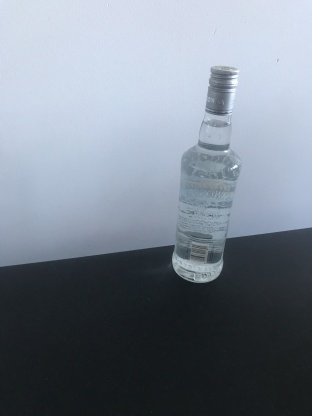nakretka: (203, 63, 241, 117)
